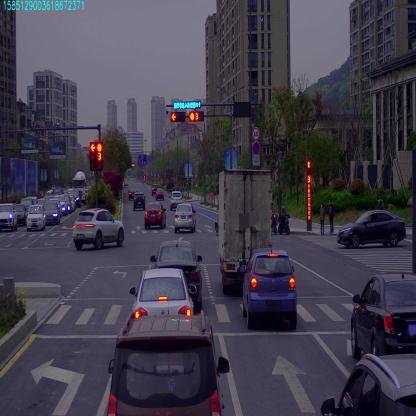traffic-light: (173, 99, 202, 111), (169, 112, 187, 126), (190, 112, 202, 124)
